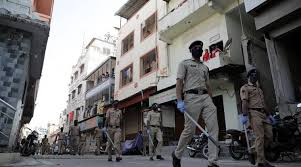mask: (189, 40, 204, 59), (246, 69, 260, 84), (153, 101, 161, 112), (111, 98, 119, 108)
